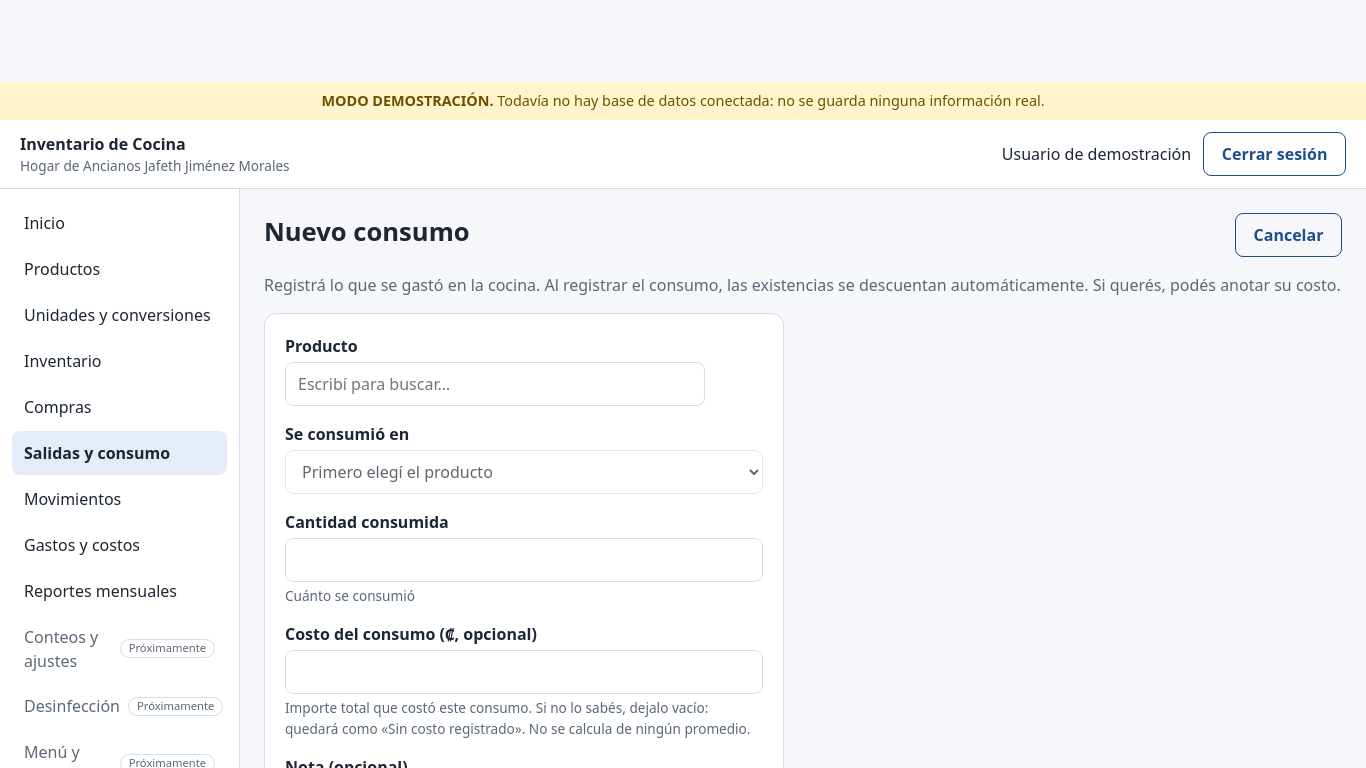
Test: formulario de consumo: costo opcional › un consumo sin costo se muestra como «Sin costo registrado», no como cero
(page scrolled)
Step 1. Click the dropdown labelled "Producto" → (495, 384), box x1=285 y1=362 x2=705 y2=406
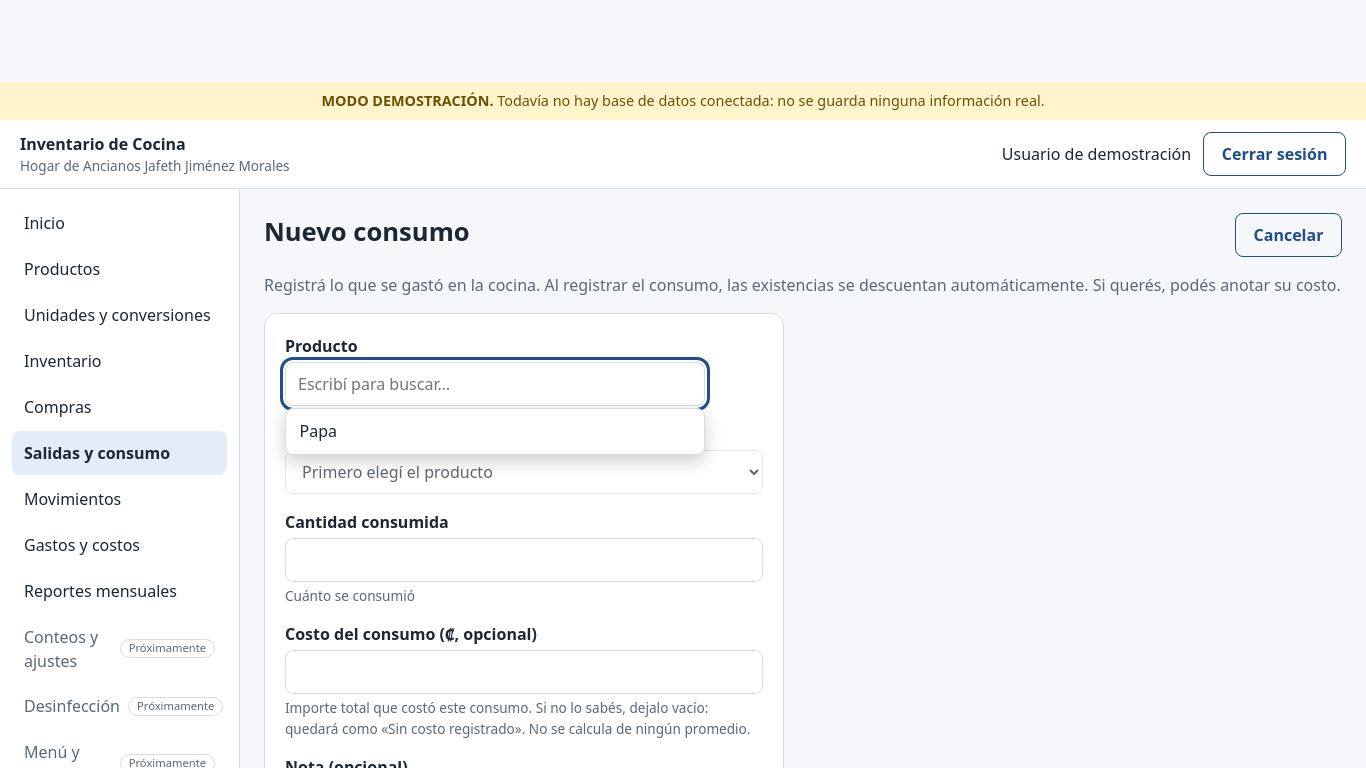
Step 2. Click the option "Papa" → (318, 431), box x1=300 y1=420 x2=337 y2=442
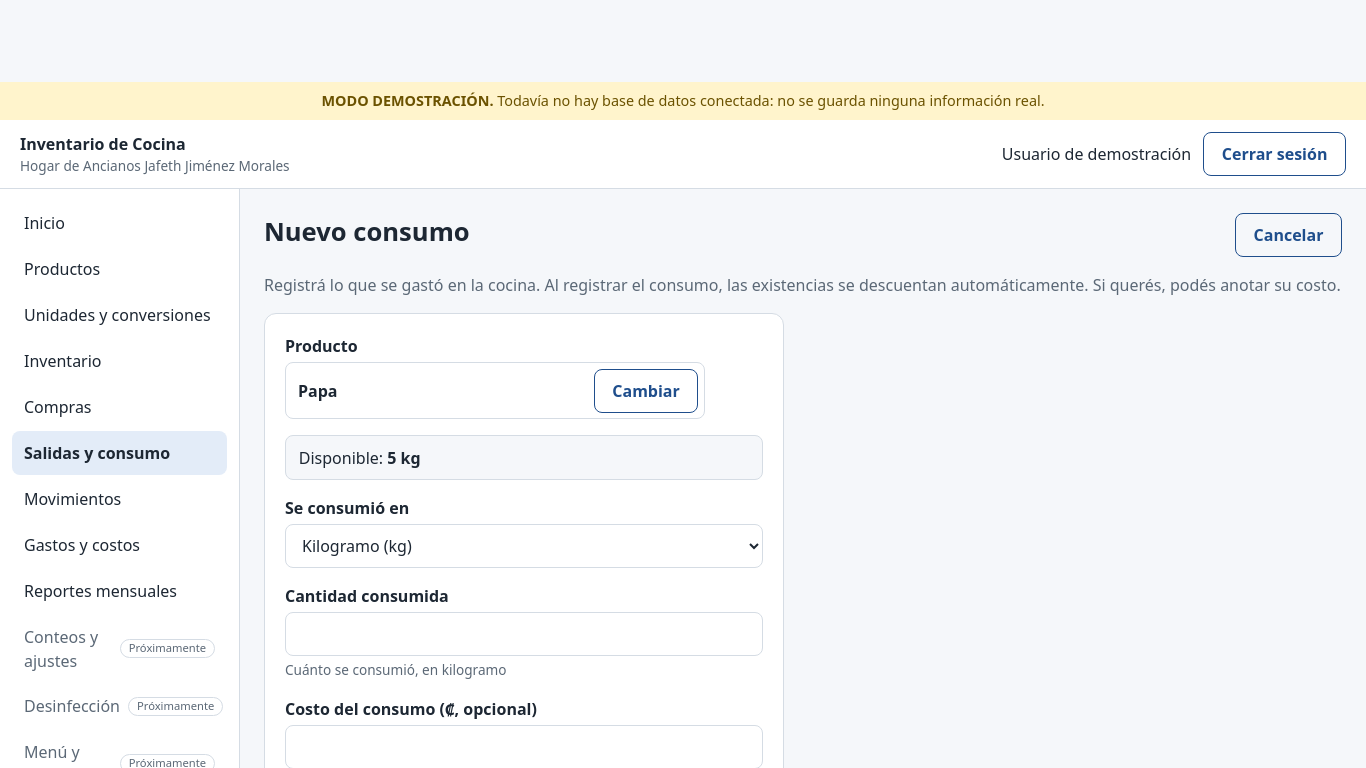
Step 3. Type "1" into the field labelled "Cantidad consumida" → (524, 634), box x1=285 y1=612 x2=763 y2=656
(page scrolled)
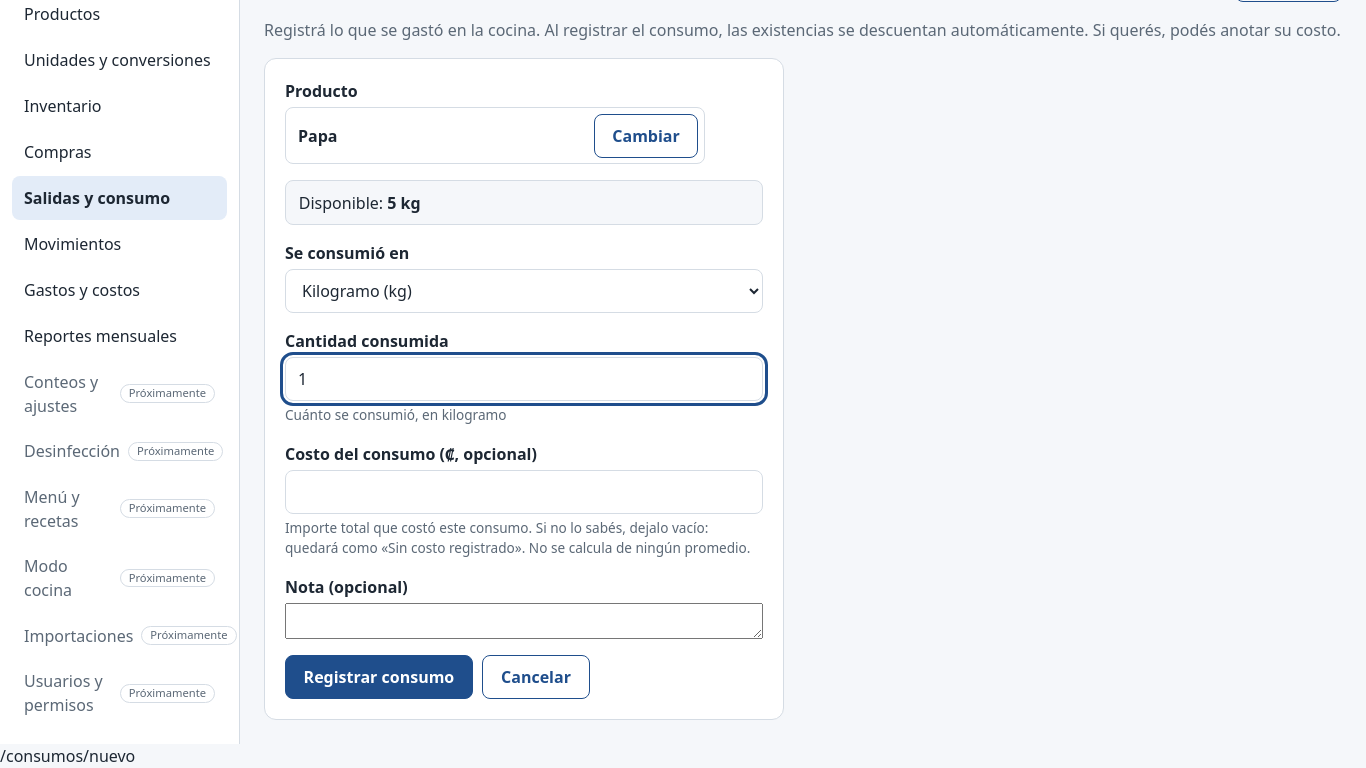
Step 4. Click the button "Registrar consumo" → (379, 676), box x1=285 y1=654 x2=473 y2=698
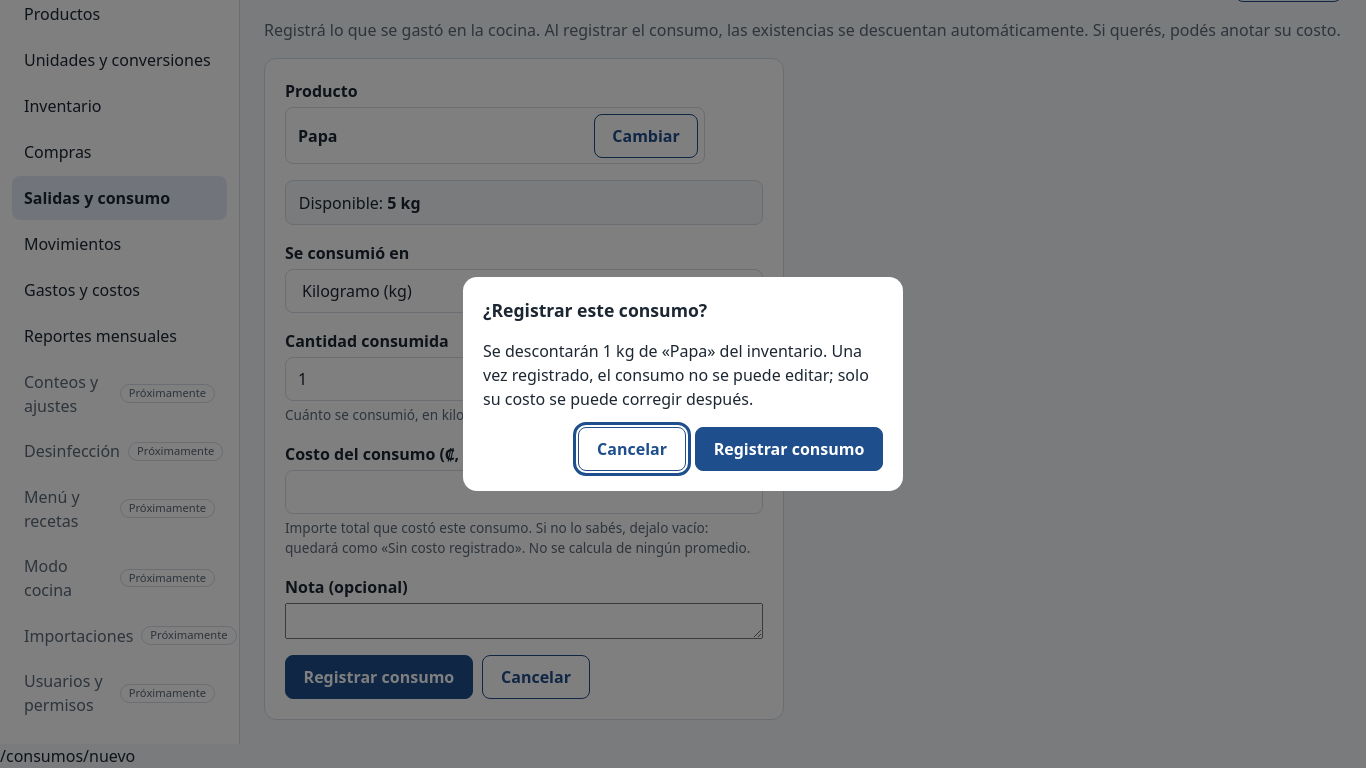
Expected: the dialog does not show "costo de"
Step 5. Click the button "Registrar consumo" → (789, 449), box x1=695 y1=427 x2=883 y2=471
(page scrolled)
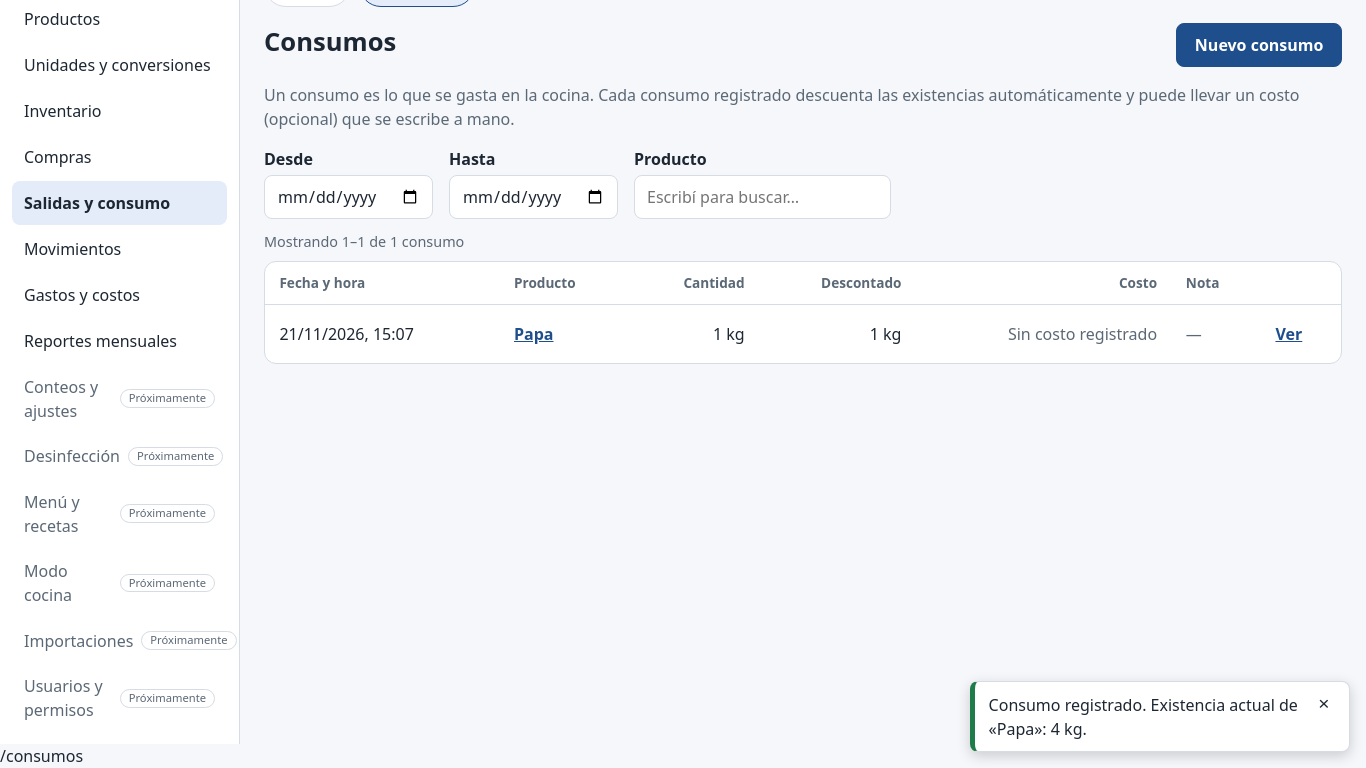
Expected: the text "Sin costo registrado" is shown, x1=1008 y1=323 x2=1157 y2=345
Result: the text with test id "ubicacion" reads "/consumos" at x1=0 y1=745 x2=83 y2=767
